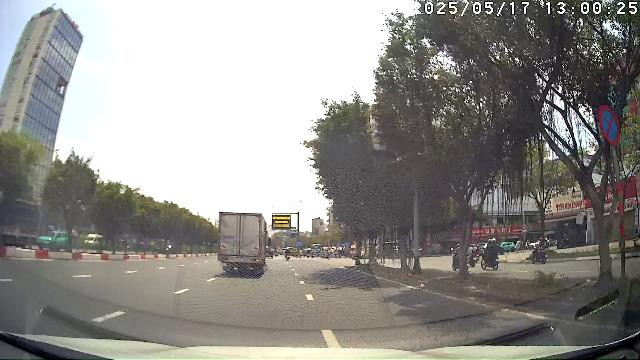130-cam-dung-va-do-xe: (598, 103, 621, 147)
